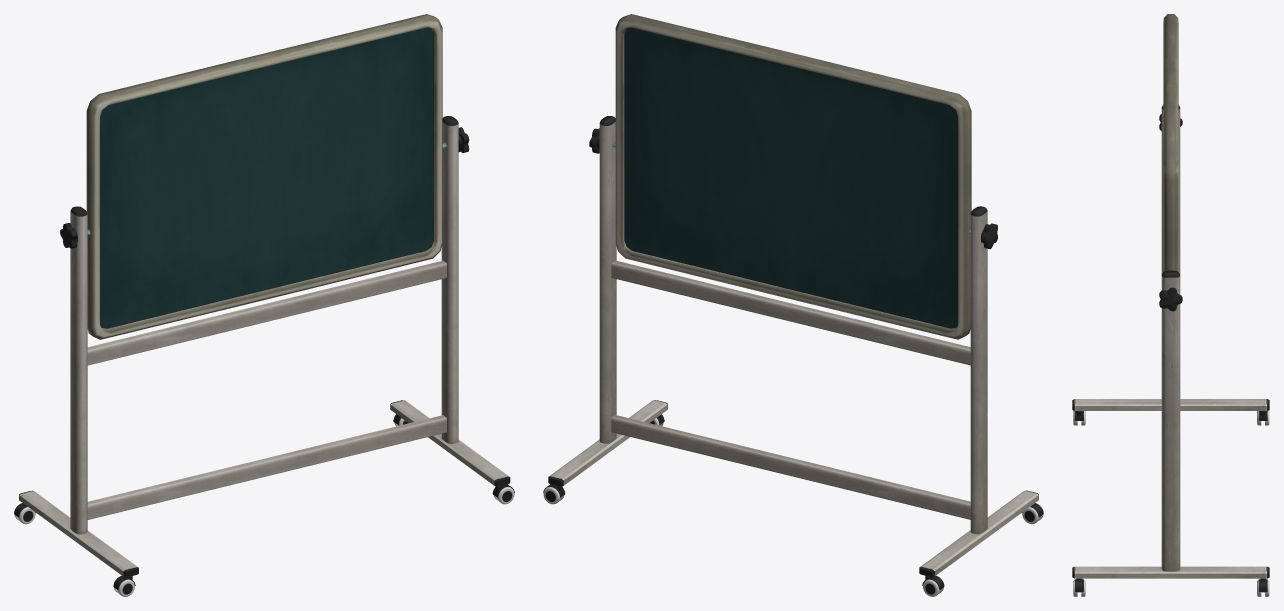
File: heiban.FBX
The picture shows the model from 3 angles, left to right: view 1: azimuth 30°, elevation 25°; view 2: azimuth 150°, elevation 25°; view 3: azimuth 270°, elevation 25°; orthographic projection. The views are drawn at different scales.
Parts seen in each view (by area): view 1: xiaoheiban; view 2: xiaoheiban; view 3: xiaoheiban.
Boxes of the visible parts, left/top/right/bottom form: xiaoheiban: left=14, top=14, right=514, bottom=596; xiaoheiban: left=543, top=14, right=1043, bottom=596; xiaoheiban: left=1072, top=14, right=1269, bottom=596.
Bounding box in the file's own units: 1.29 × 1.41 × 0.5962.
